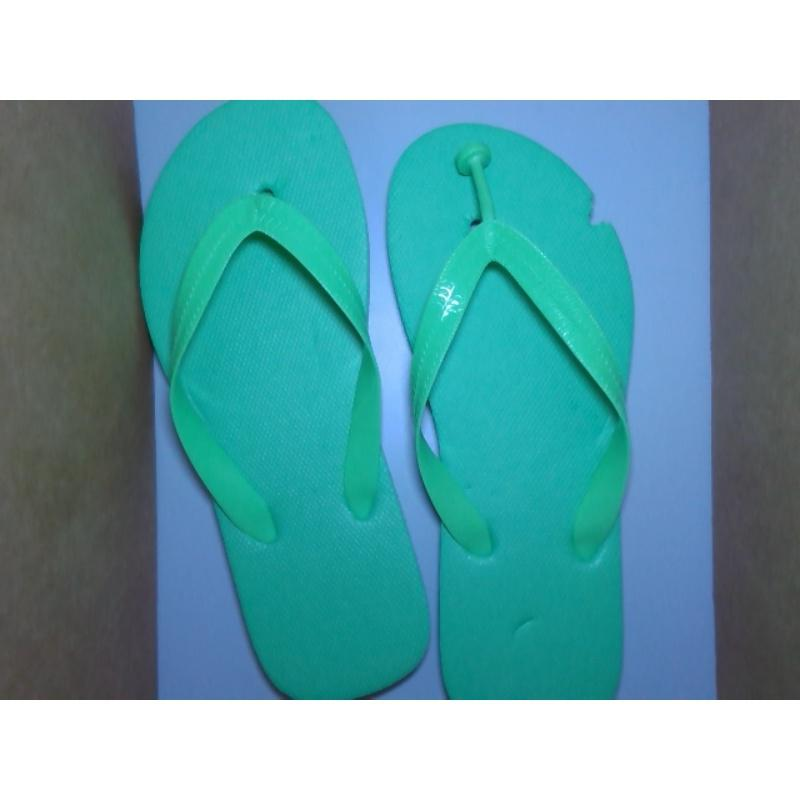chipped: (576, 177, 631, 254)
detached: (444, 135, 508, 196)
